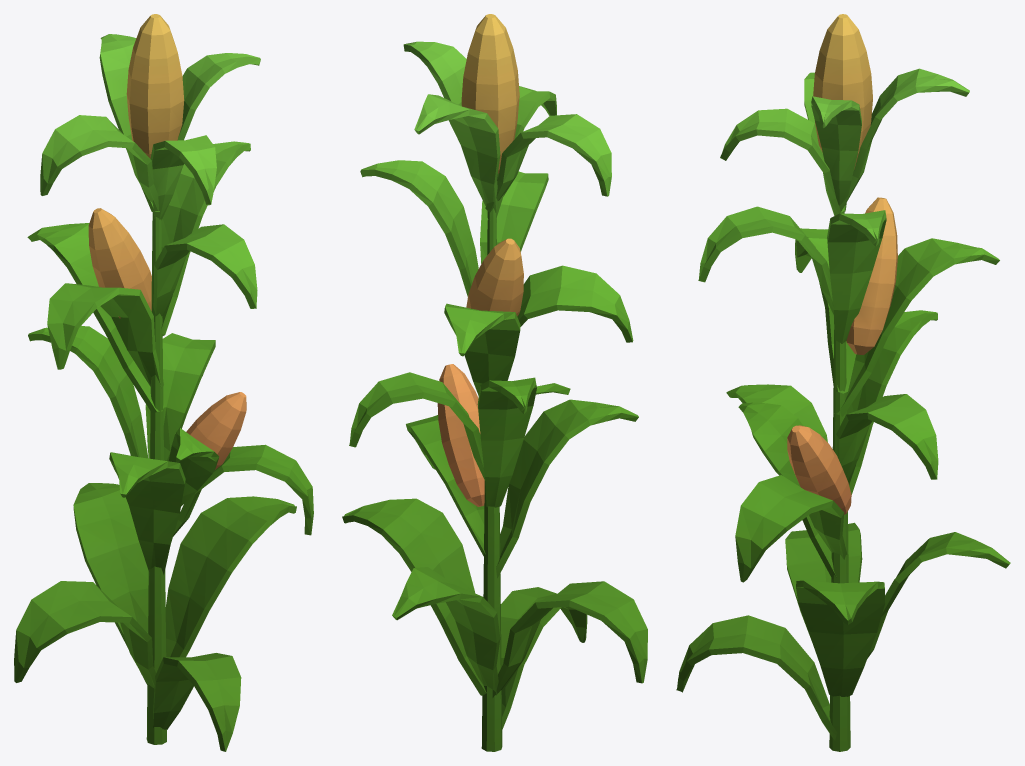
File: crop_corn_stage3.glb
3 renders of one model, left to right at view 1: azimuth 30°, elevation 25°; view 2: azimuth 150°, elevation 25°; view 3: azimuth 270°, elevation 25°, orthographic.
Visible parts, largest first — view 1: crop_corn_stage3; view 2: crop_corn_stage3; view 3: crop_corn_stage3.
Boxes of the visible parts, x1,y1,x2,y2 form: crop_corn_stage3: [14, 14, 313, 751]; crop_corn_stage3: [342, 14, 647, 751]; crop_corn_stage3: [676, 14, 1010, 751].
Bounding box in the file's own units: 0.5633 × 1.35 × 0.5595.
Materials: 1 (1 with a texture image).
